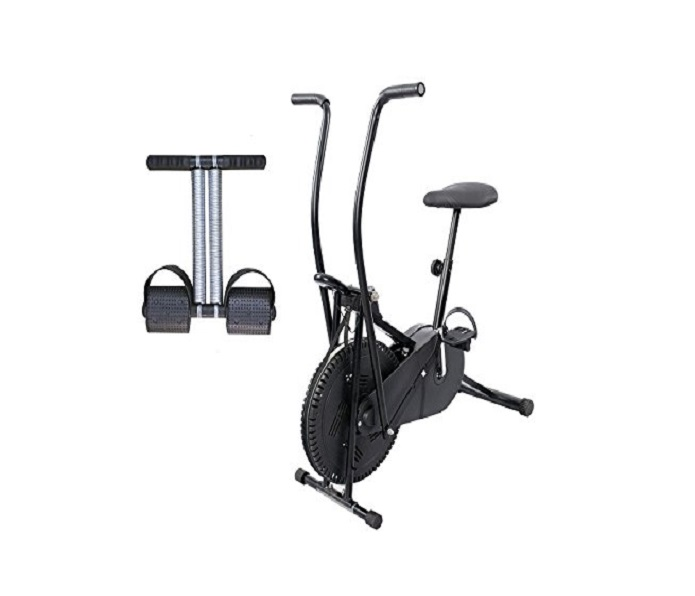gym_bike: (277, 78, 541, 527)
